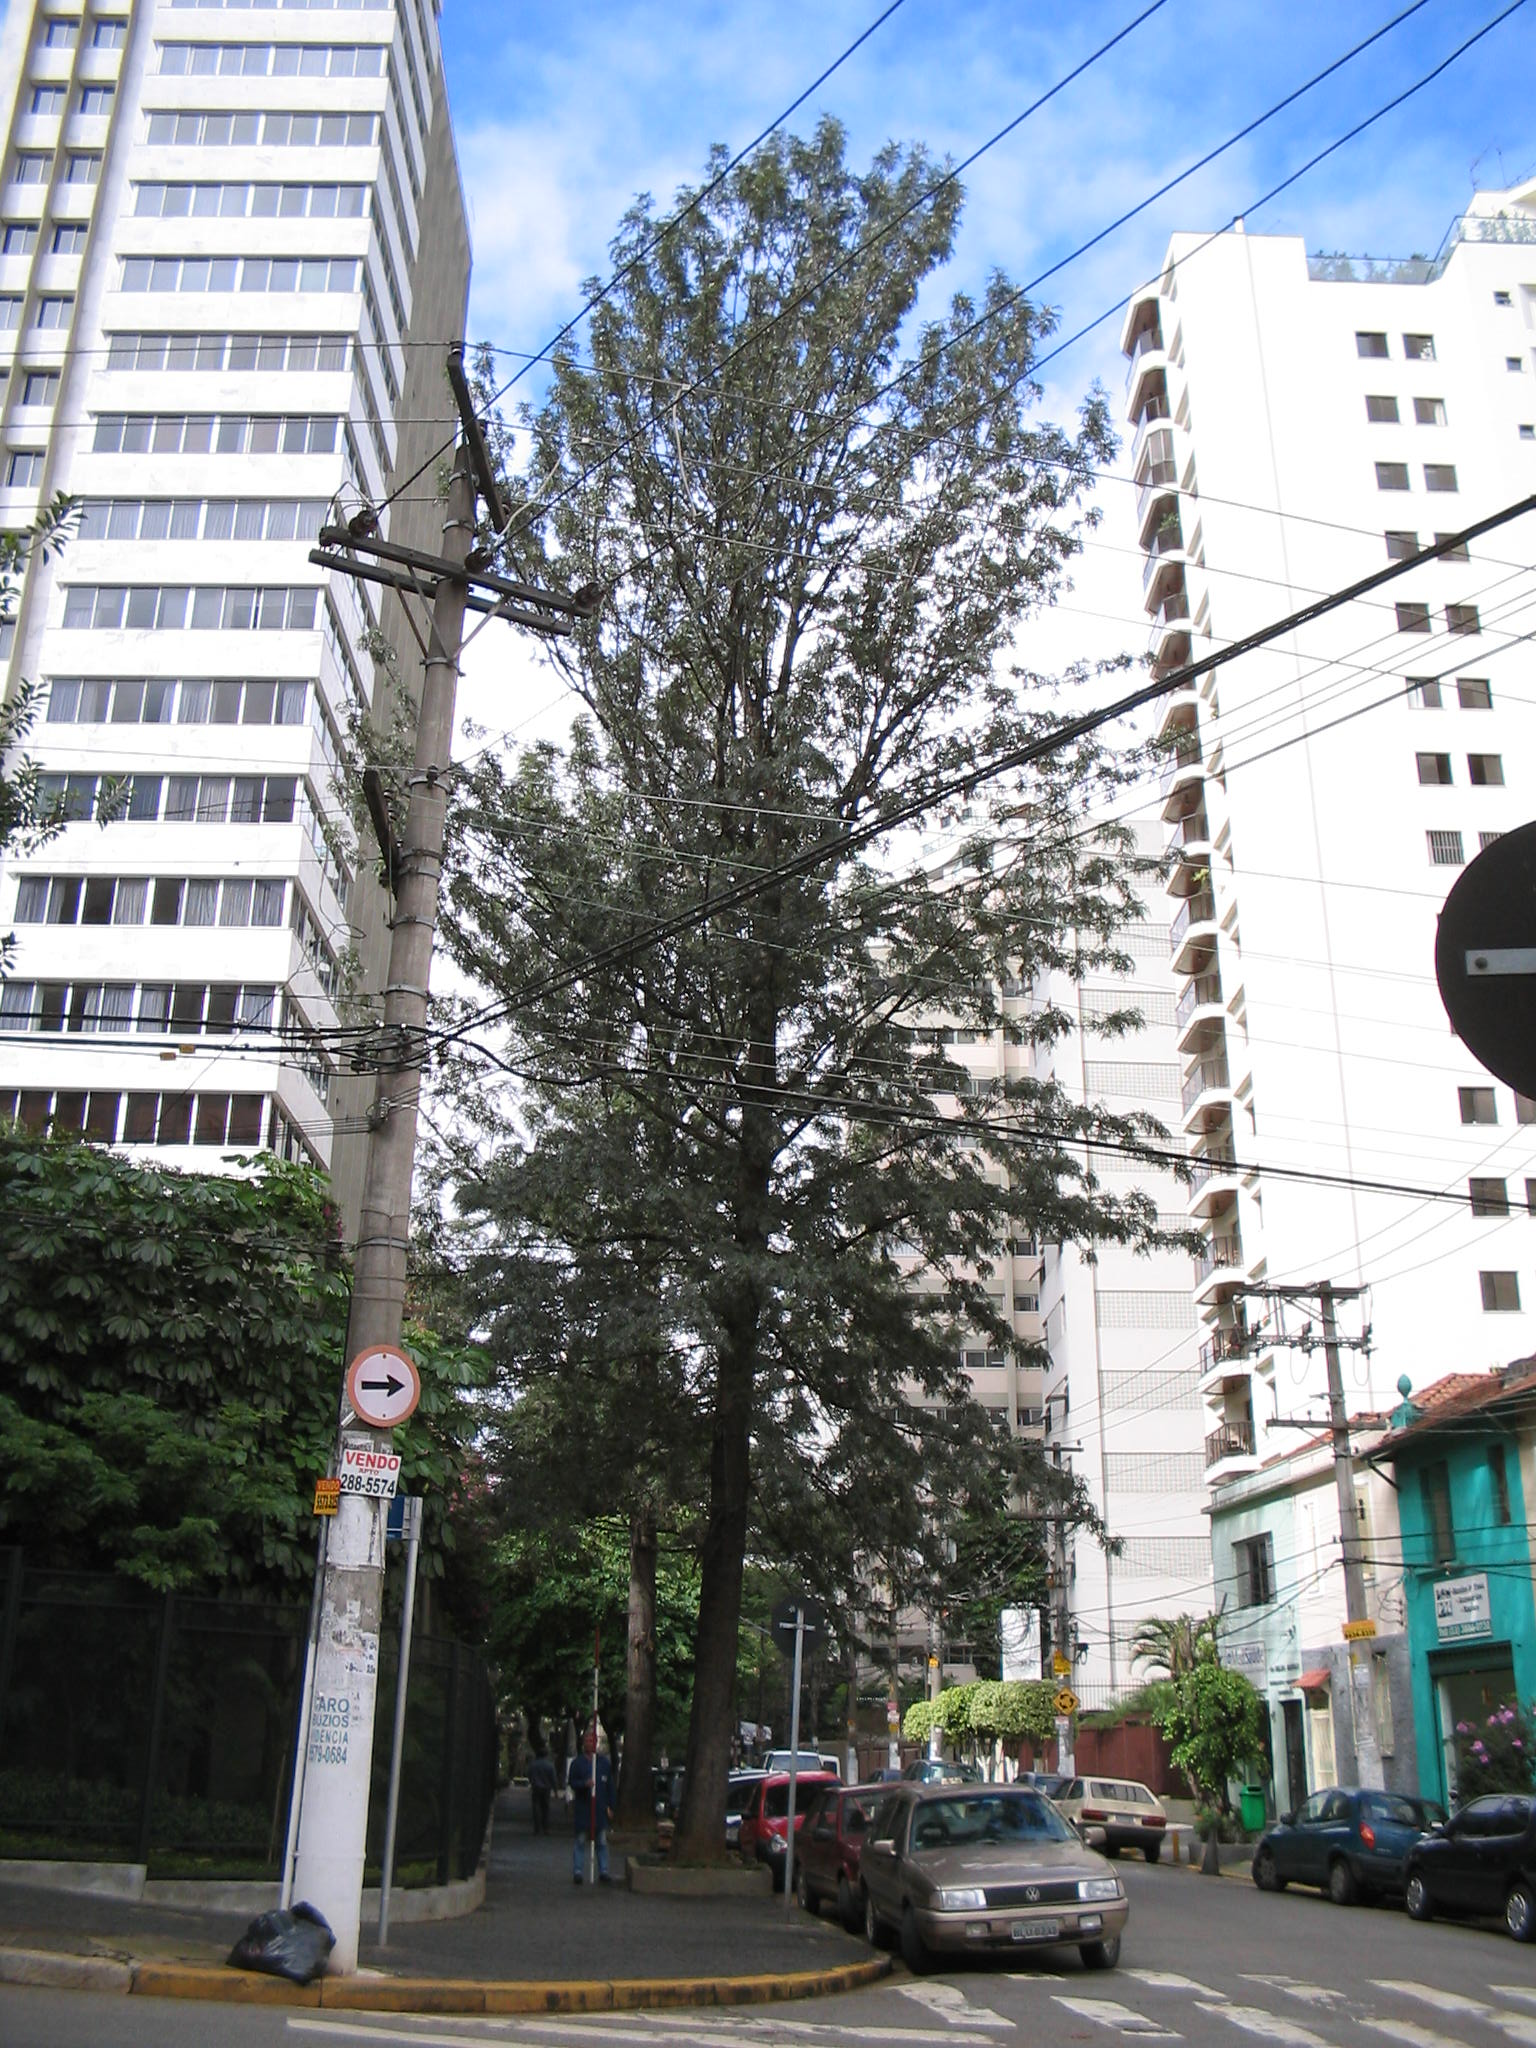crown: (474, 121, 1207, 1595)
stem: (662, 1553, 766, 1874)
stick: (578, 1629, 611, 1884)
tree: (466, 118, 1210, 1879)
